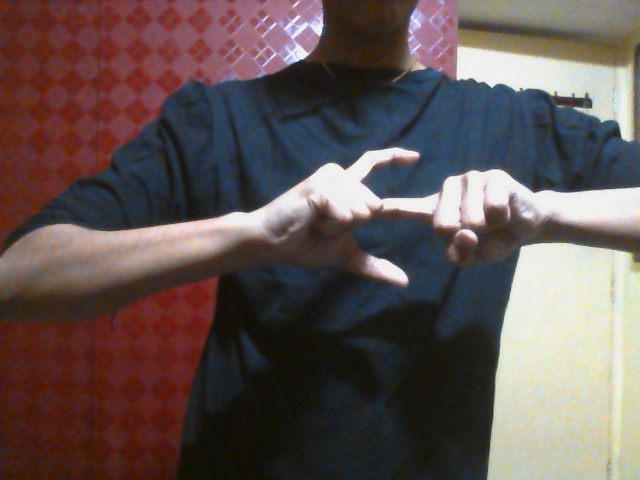E: (252, 140, 538, 295)
